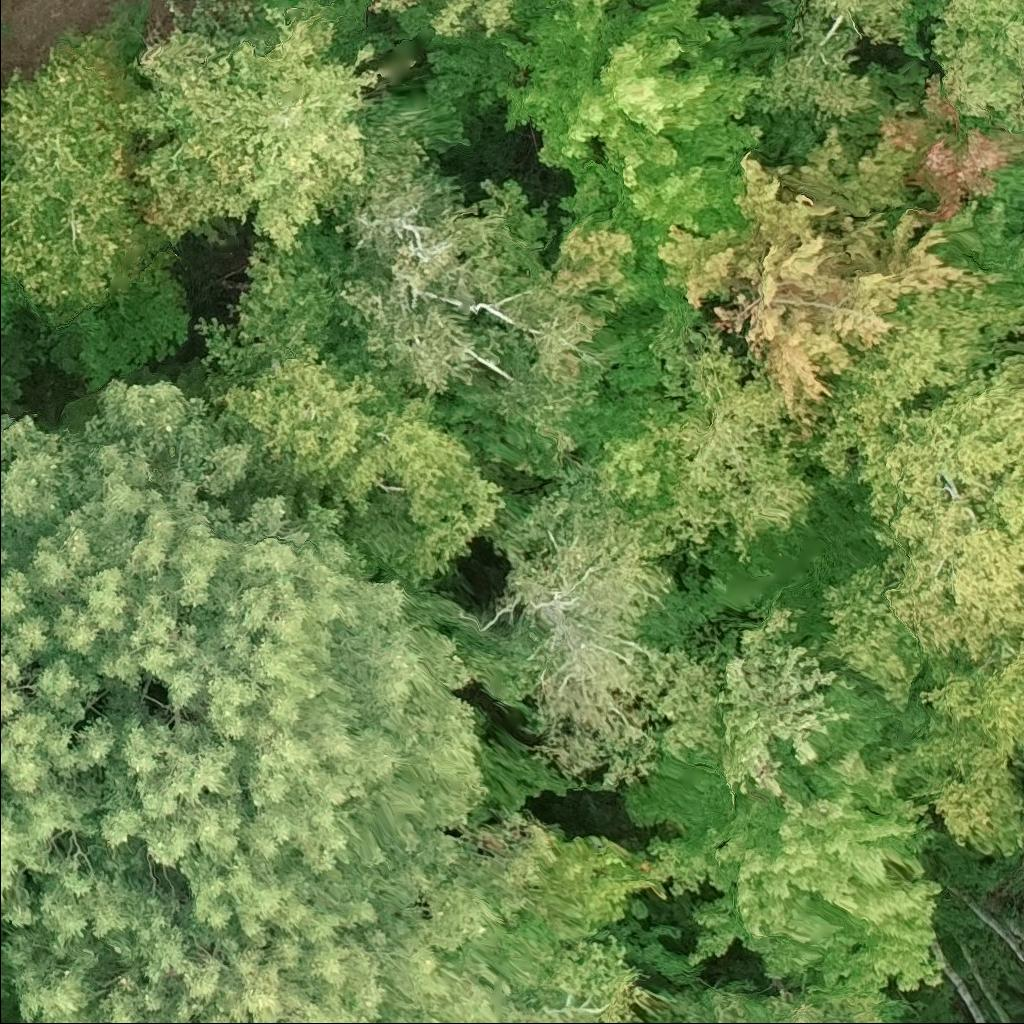crown: (0, 376, 565, 1023), (197, 338, 507, 586), (123, 1, 381, 253), (0, 16, 163, 322), (0, 536, 103, 992), (0, 322, 38, 412)
